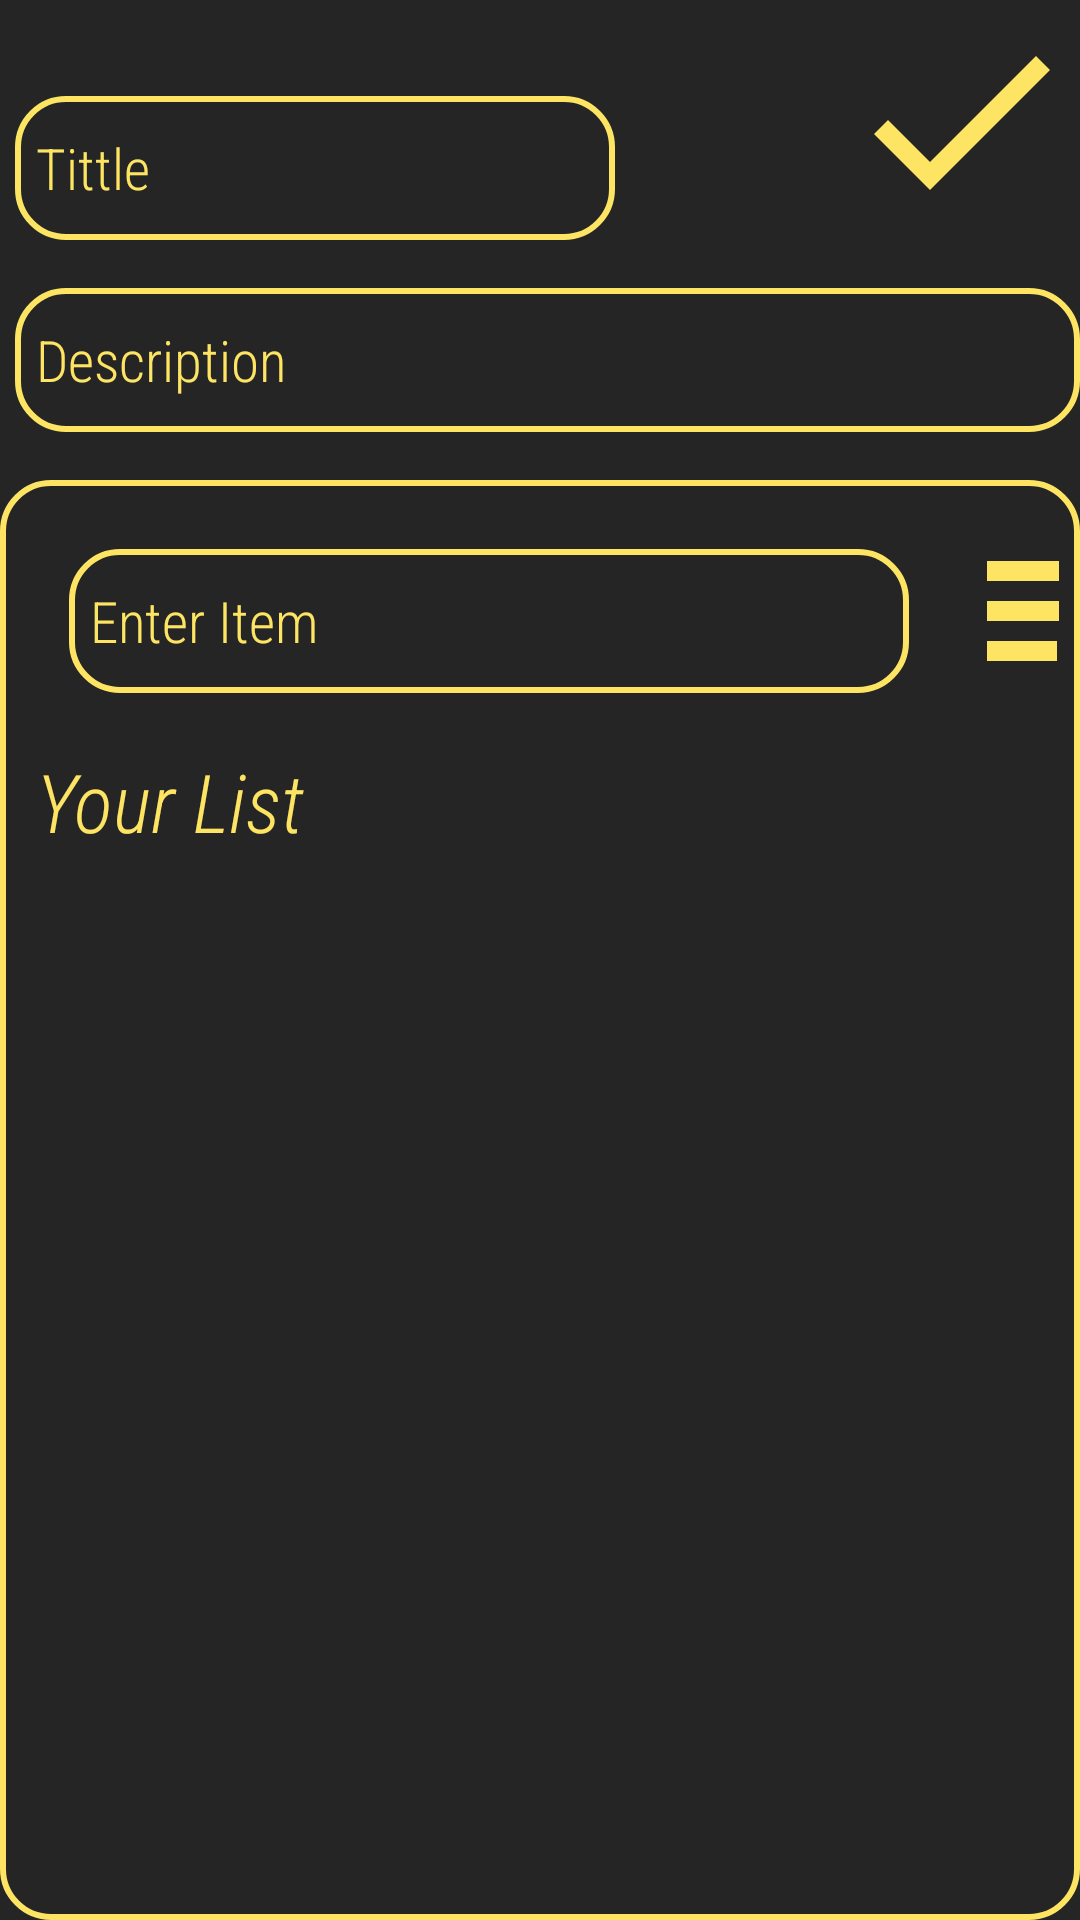

Locate icon controls on the screen. Image size 1080x1920, boxes as bbox=[x1, y1, x2, y2].
done: bbox=[874, 56, 1050, 190]
